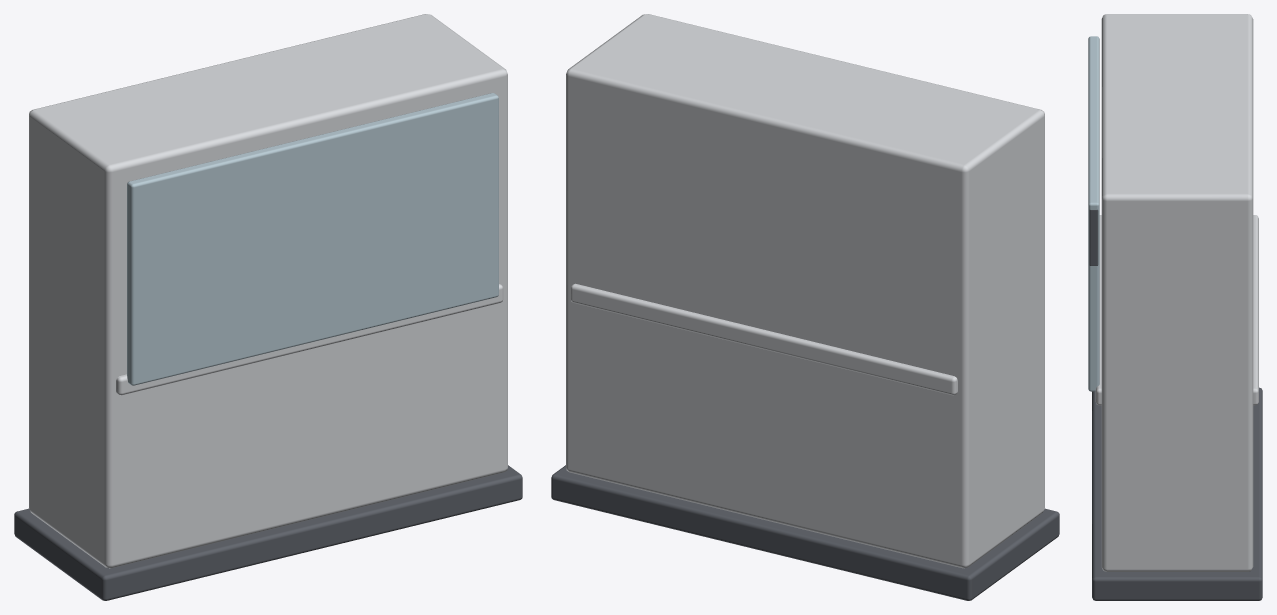
Rendered from paint-mix-cabinet.glb.
3 renders of one model, left to right at view 1: azimuth 30°, elevation 25°; view 2: azimuth 150°, elevation 25°; view 3: azimuth 270°, elevation 25°, orthographic. The views are drawn at different scales.
Visible parts, largest first — view 1: paint-mix-cabinet; view 2: paint-mix-cabinet; view 3: paint-mix-cabinet.
Boxes of the visible parts, box(x1,y1,x2,y2) form: paint-mix-cabinet: box(14, 14, 522, 600); paint-mix-cabinet: box(551, 14, 1059, 600); paint-mix-cabinet: box(1088, 14, 1262, 600).
Bounding box in the file's own units: 2.4 × 2.34 × 0.92.
